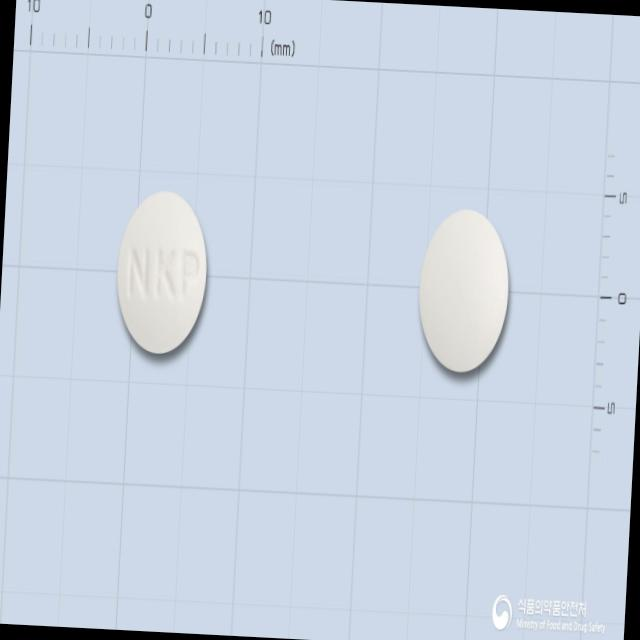Lefoxacin: (114, 188, 210, 358)
